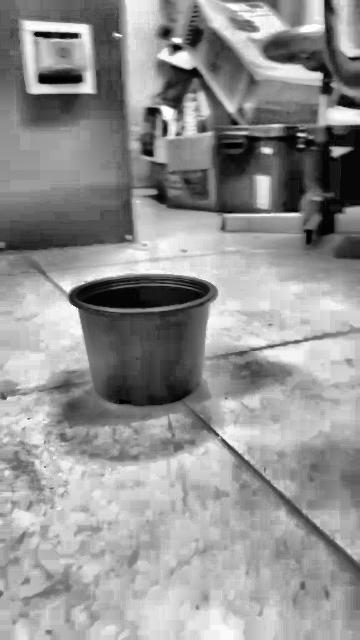pot: (70, 274, 216, 406)
